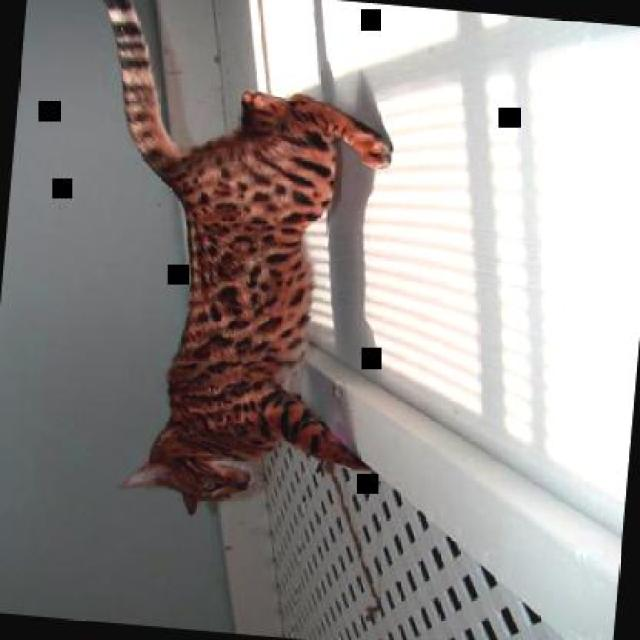cat: (43, 0, 415, 534)
